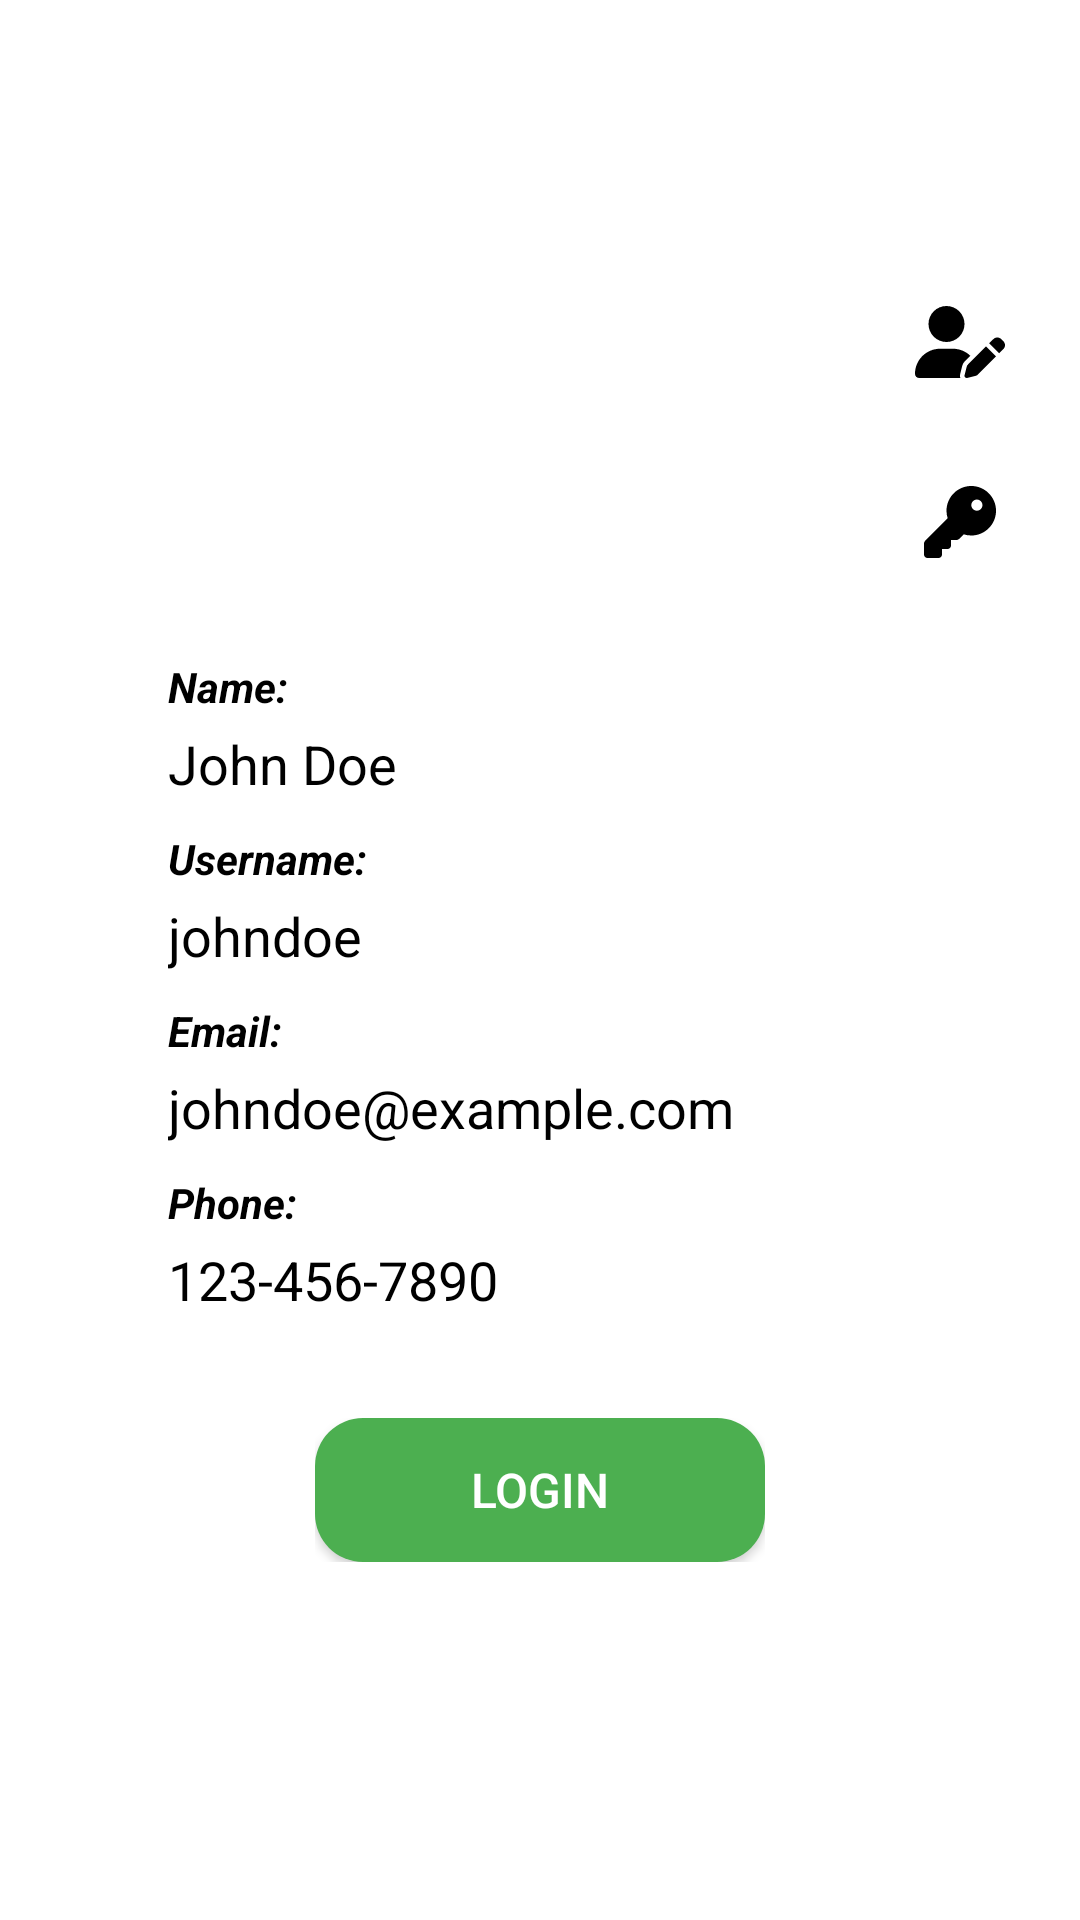

Named icons in this screenshot (1080px×1920px) and their bounding boxes, Rect(x1, y1, x2, y2):
password: Rect(924, 486, 996, 558)
user pen: Rect(915, 306, 1005, 378)
